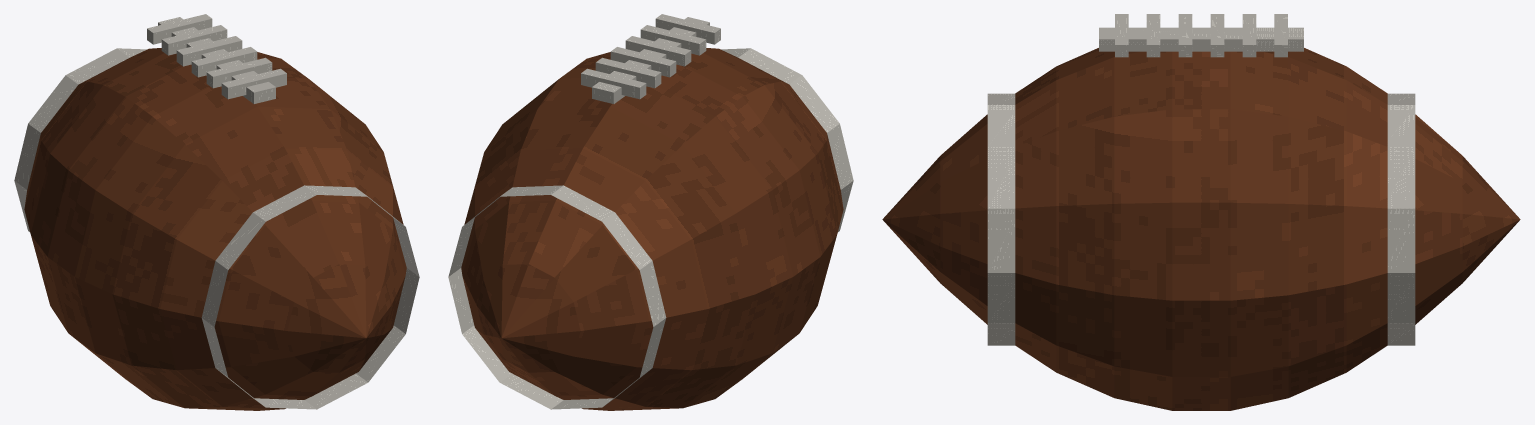
Rendered from football.glb.
The picture shows the model from 3 angles, left to right: view 1: azimuth 30°, elevation 25°; view 2: azimuth 150°, elevation 25°; view 3: azimuth 270°, elevation 25°; orthographic projection. The views are drawn at different scales.
Parts seen in each view (by area): view 1: football; view 2: football; view 3: football.
Boxes of the visible parts, left/top/right/bottom form: football: left=14, top=14, right=419, bottom=410; football: left=448, top=14, right=853, bottom=410; football: left=882, top=14, right=1520, bottom=410.
Bounding box in the file's own units: 0.1686 × 0.1763 × 0.28.
Materials: 2 (2 with a texture image).
